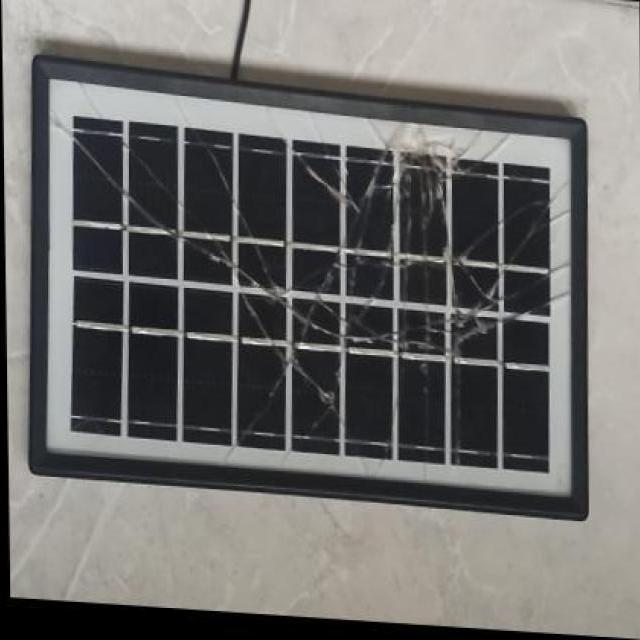cracked: (27, 56, 590, 518)
